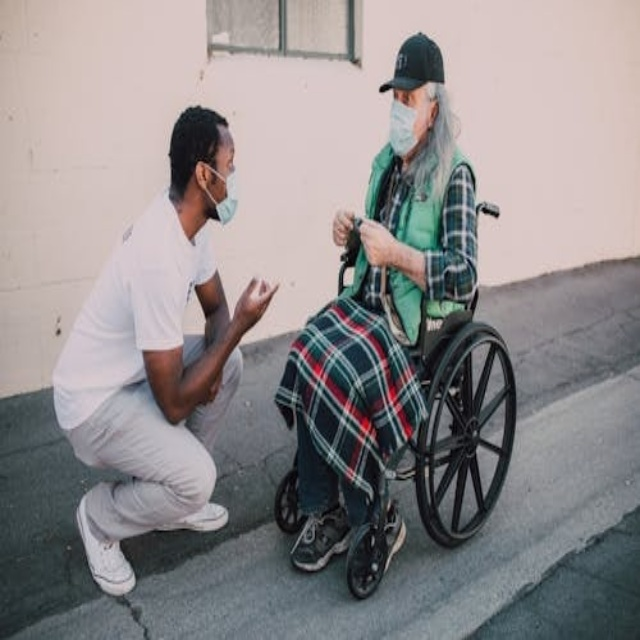Mascara: (388, 94, 430, 155), (203, 163, 238, 226)
Sin_gafas: (390, 88, 422, 113), (215, 148, 244, 173)
Sin_guantes: (230, 273, 285, 336), (353, 214, 395, 269), (329, 204, 352, 248)
